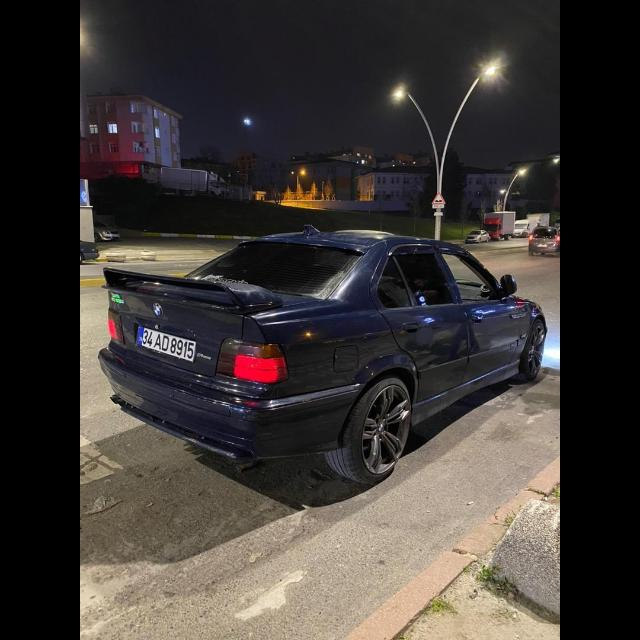Plaka: (137, 327, 195, 363)
